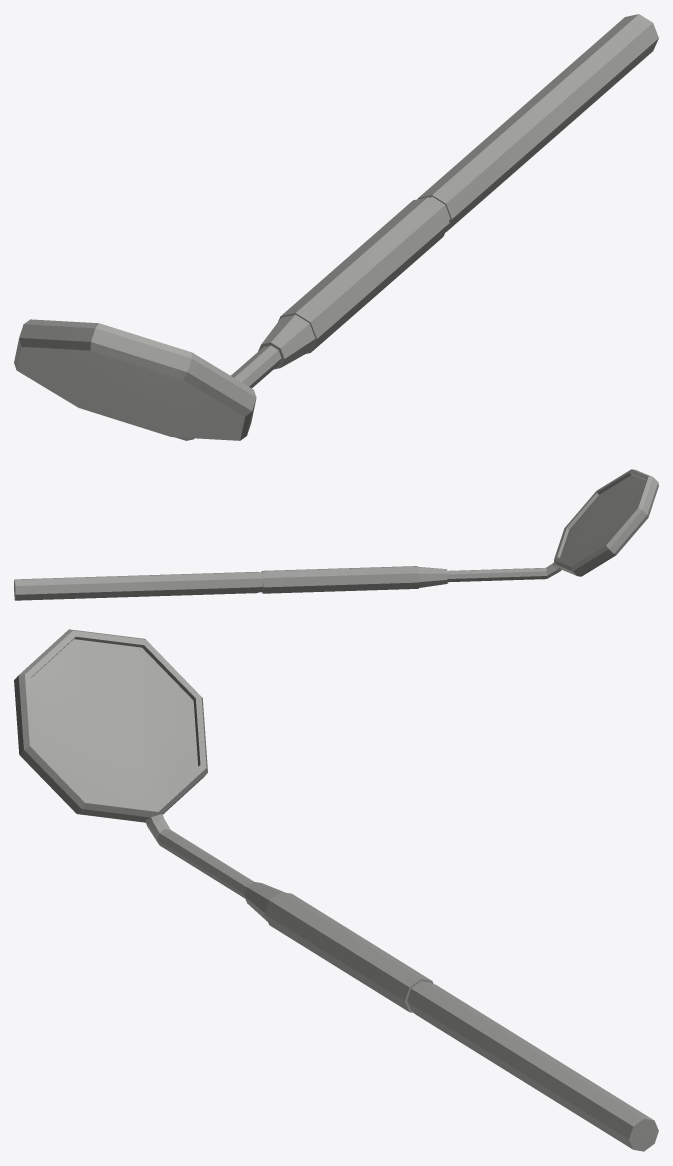
Rendered from dental_mirror.glb.
3 views of the same model, one above another, from view 1: azimuth 30°, elevation 25°; view 2: azimuth 150°, elevation 25°; view 3: azimuth 270°, elevation 25° (orthographic). The views are drawn at different scales.
Visible parts, largest first — view 1: dental_mirror; view 2: dental_mirror; view 3: dental_mirror.
Boxes of the visible parts, x1,y1,x2,y2 form: dental_mirror: (14, 14, 658, 440); dental_mirror: (14, 469, 658, 600); dental_mirror: (14, 629, 658, 1151).
Size of the model in its own units: 0.16 by 0.0334 by 0.1164.
1 material, 1 textured.
